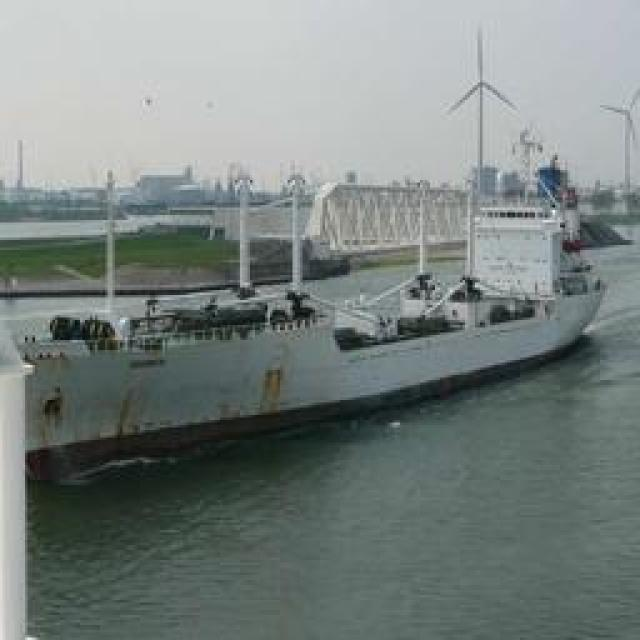CIV_Ship: (12, 158, 608, 482)
